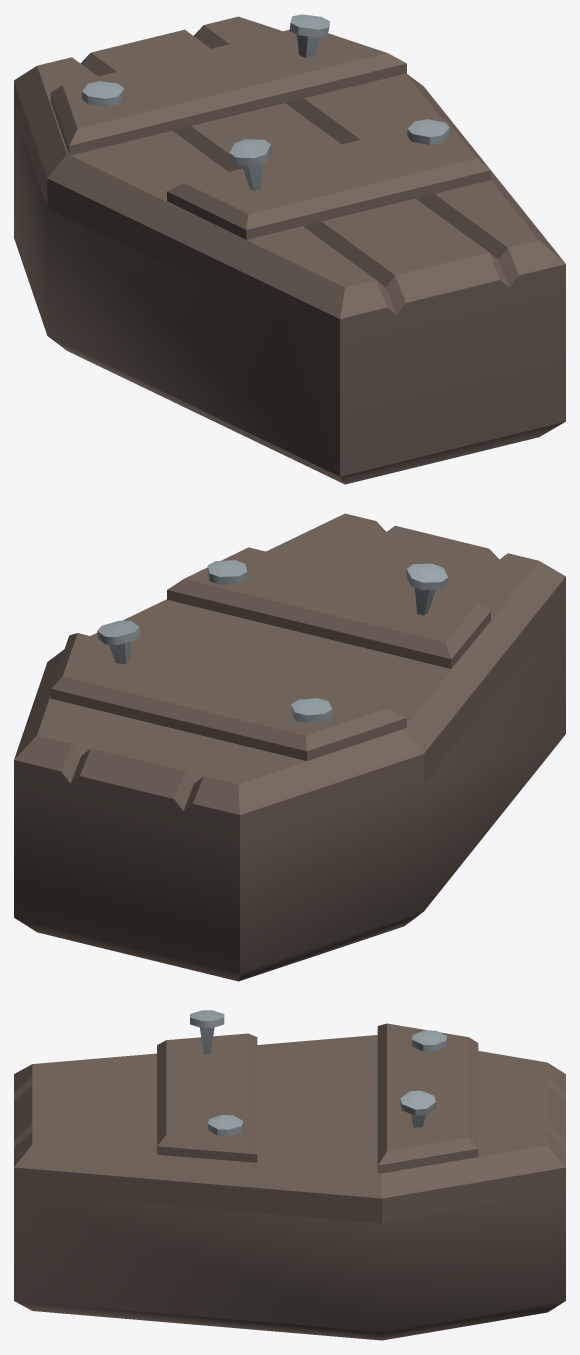
The model's file is coffin.glb.
The picture shows the model from 3 angles, top to bottom: view 1: azimuth 30°, elevation 25°; view 2: azimuth 150°, elevation 25°; view 3: azimuth 270°, elevation 25°; orthographic projection. The views are drawn at different scales.
Visible parts, largest first — view 1: coffin_lid, coffin; view 2: coffin_lid, coffin; view 3: coffin_lid, coffin.
Boxes of the visible parts, x1,y1,x2,y2 form: coffin_lid: (14, 14, 565, 348); coffin: (14, 110, 565, 484); coffin_lid: (14, 513, 565, 844); coffin: (14, 606, 565, 981); coffin_lid: (14, 1010, 565, 1223); coffin: (14, 1192, 565, 1340).
Bounding box in the file's own units: 2 × 1.32 × 3.
Materials: 1 (1 with a texture image).
